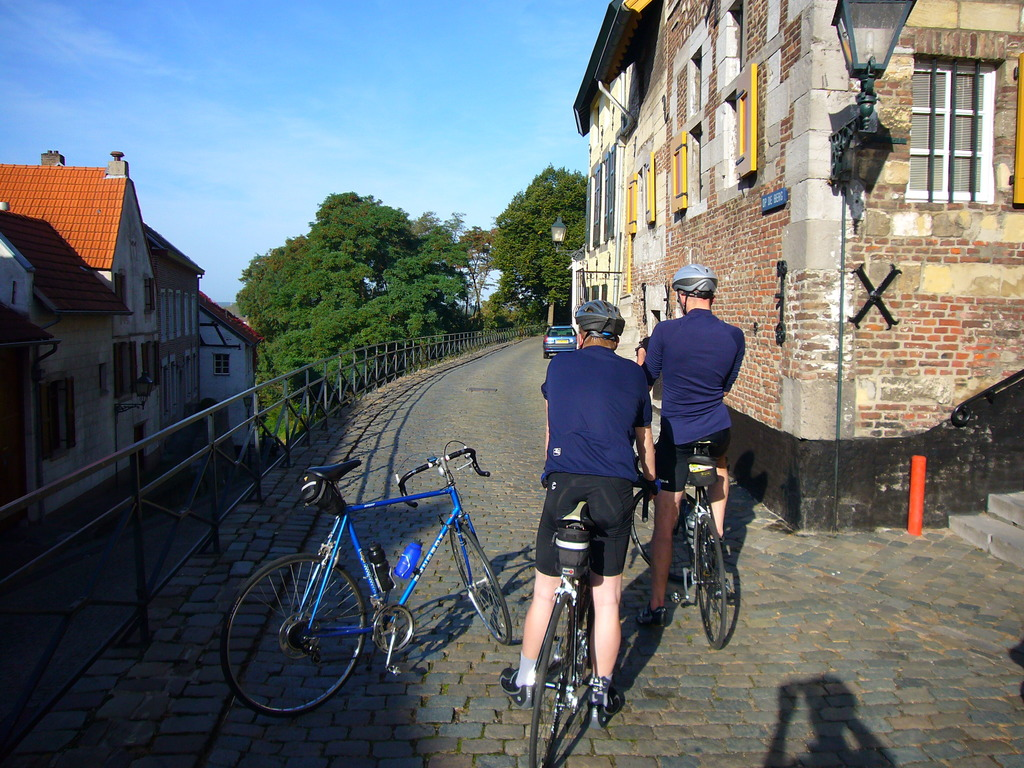Bike_away: (498, 506, 648, 760), (666, 448, 788, 649)
